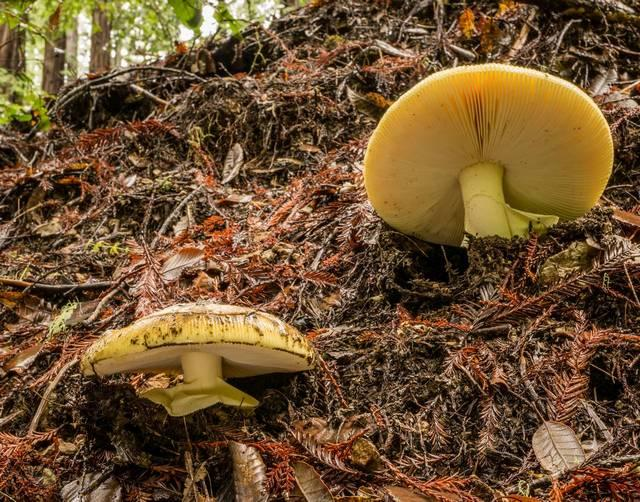Edible Mushroom: (362, 61, 614, 248), (79, 300, 318, 417)
